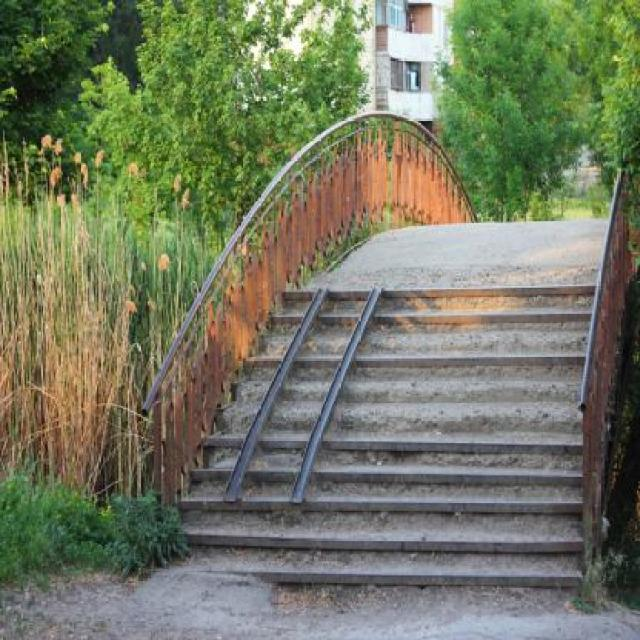stair: (175, 289, 583, 585)
